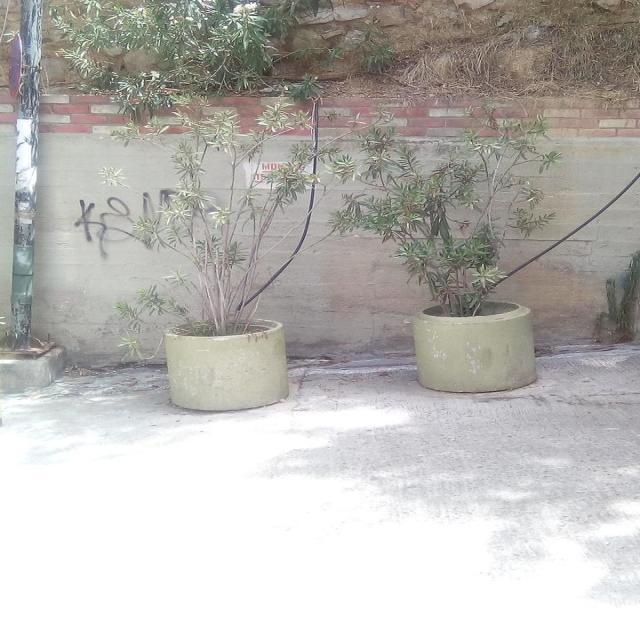nonspitting: (75, 186, 182, 254)
